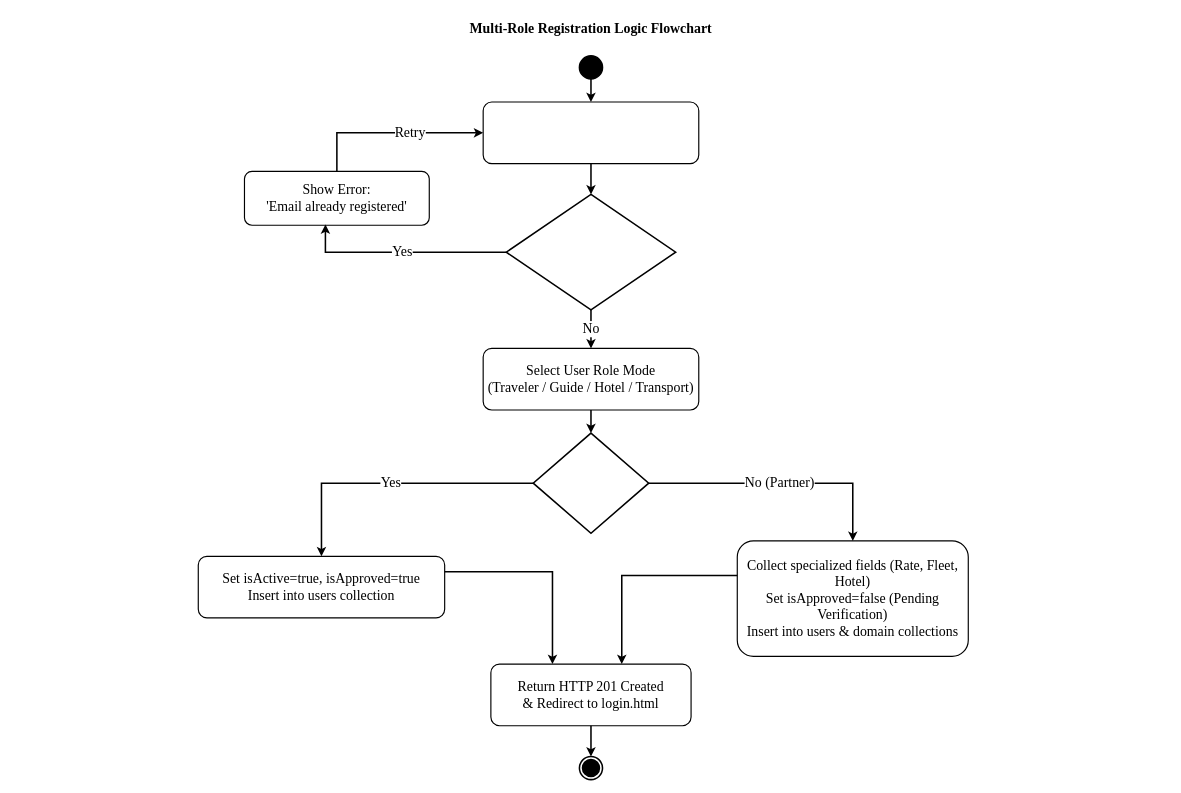
This 1181x793 diagram has some shape labels left out. The box of each missing label's shape, as (x1, y1, x2, y2) in pixels:
Email already in database?: (505, 193, 676, 310)
Role == 'traveler'?: (532, 432, 649, 534)
Visitor opens signup.html & Enters Full Name, Email, Password: (482, 101, 699, 164)
